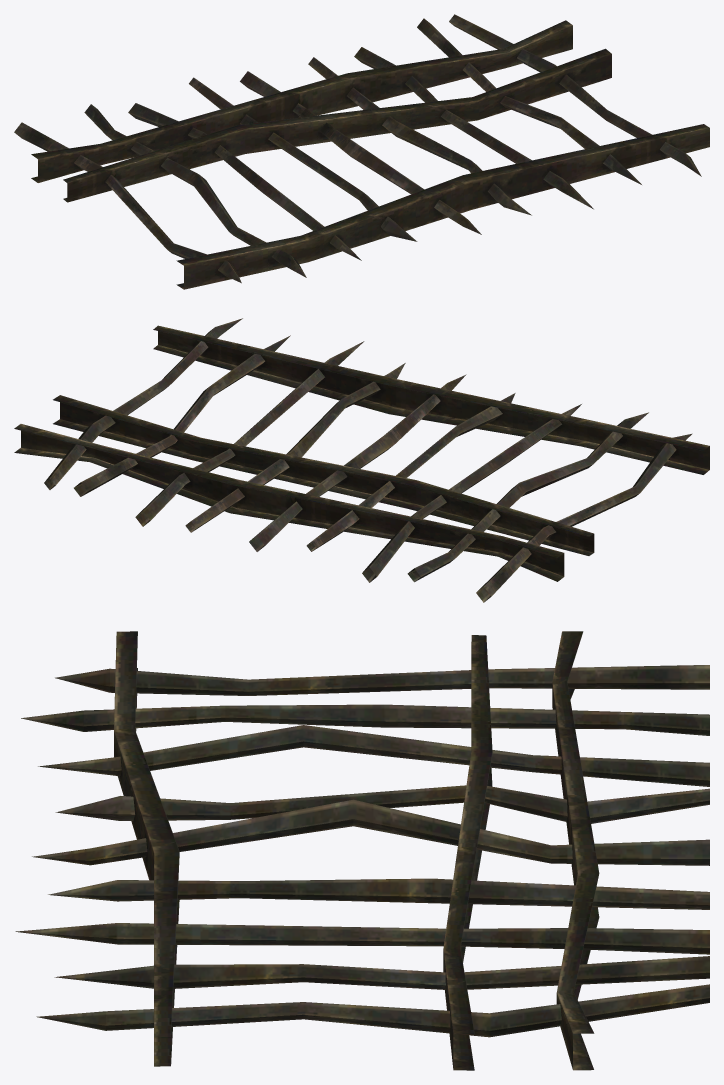
The model's file is juqing_fuben_285_men_01b.obj.
The picture shows the model from 3 angles, top to bottom: view 1: azimuth 30°, elevation 25°; view 2: azimuth 150°, elevation 25°; view 3: azimuth 270°, elevation 25°; orthographic projection. The views are drawn at different scales.
Visible parts, largest first — view 1: juqing_fuben_285_men_01b; view 2: juqing_fuben_285_men_01b; view 3: juqing_fuben_285_men_01b.
Part boxes in pixels (left/top/right/bottom): juqing_fuben_285_men_01b: left=14, top=14, right=709, bottom=289; juqing_fuben_285_men_01b: left=14, top=318, right=709, bottom=602; juqing_fuben_285_men_01b: left=15, top=631, right=709, bottom=1070.
Size of the model in its own units: 263 by 18.75 by 192.
Materials: 1 (1 with a texture image).
